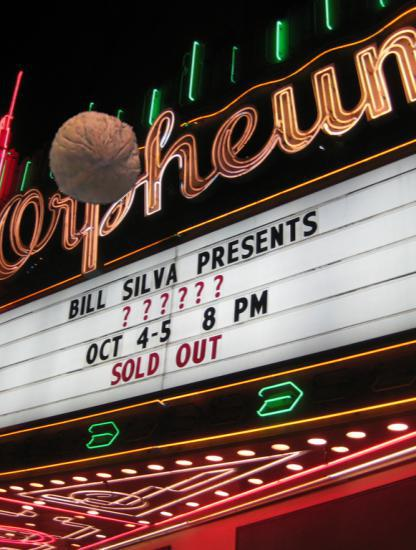Walnut: (46, 109, 144, 207)
